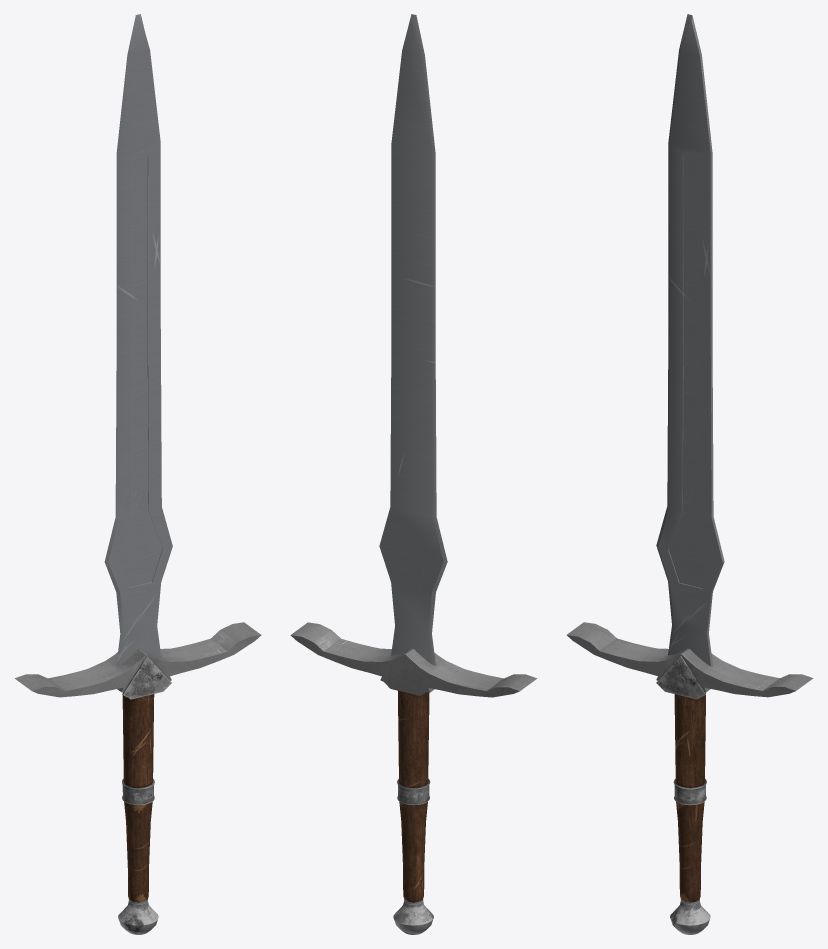
File: Sword_02.fbx
3 renders of one model, left to right at view 1: azimuth 30°, elevation 25°; view 2: azimuth 150°, elevation 25°; view 3: azimuth 330°, elevation 25°, orthographic.
Parts seen in each view (by area): view 1: Sword_02; view 2: Sword_02; view 3: Sword_02.
Boxes of the visible parts, left/top/right/bottom form: Sword_02: left=15, top=14, right=261, bottom=934; Sword_02: left=290, top=14, right=537, bottom=934; Sword_02: left=567, top=14, right=813, bottom=934.
Bounding box in the file's own units: 12.54 × 47.89 × 1.93.
Materials: 6 (6 with a texture image).
